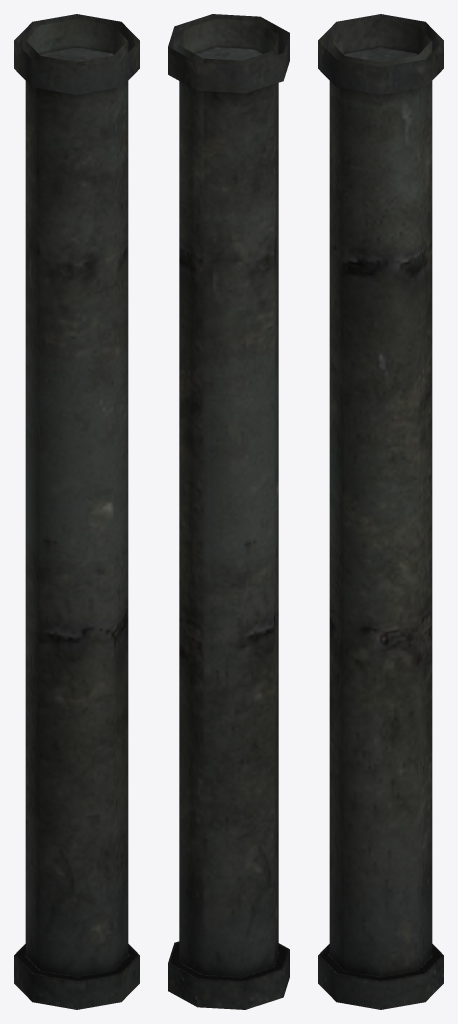
Rendered from ThickMetal_VerticalPipe_02.FBX.
3 renders of one model, left to right at view 1: azimuth 90°, elevation 25°; view 2: azimuth 150°, elevation 25°; view 3: azimuth 270°, elevation 25°, orthographic.
Parts seen in each view (by area): view 1: ThickMetal_VerticalPipe_02; view 2: ThickMetal_VerticalPipe_02; view 3: ThickMetal_VerticalPipe_02.
Part boxes in pixels (x1,y1,x2,y2): ThickMetal_VerticalPipe_02: (14,14,139,1009); ThickMetal_VerticalPipe_02: (168,14,289,1009); ThickMetal_VerticalPipe_02: (318,14,443,1009).
Size of the model in its own units: 37.79 by 312 by 37.79.
